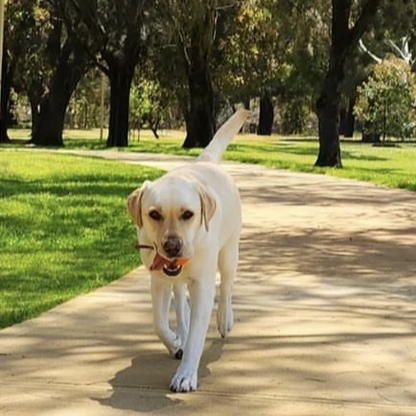labrado: (120, 106, 268, 393)
